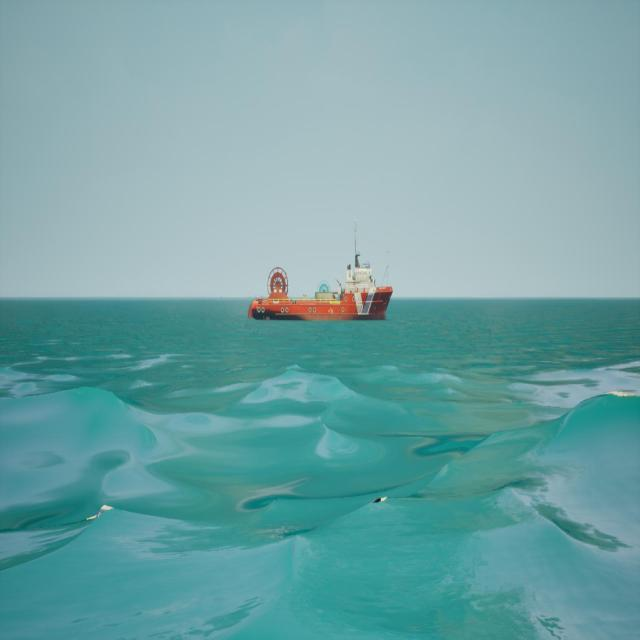tug boat: (247, 220, 395, 324)
